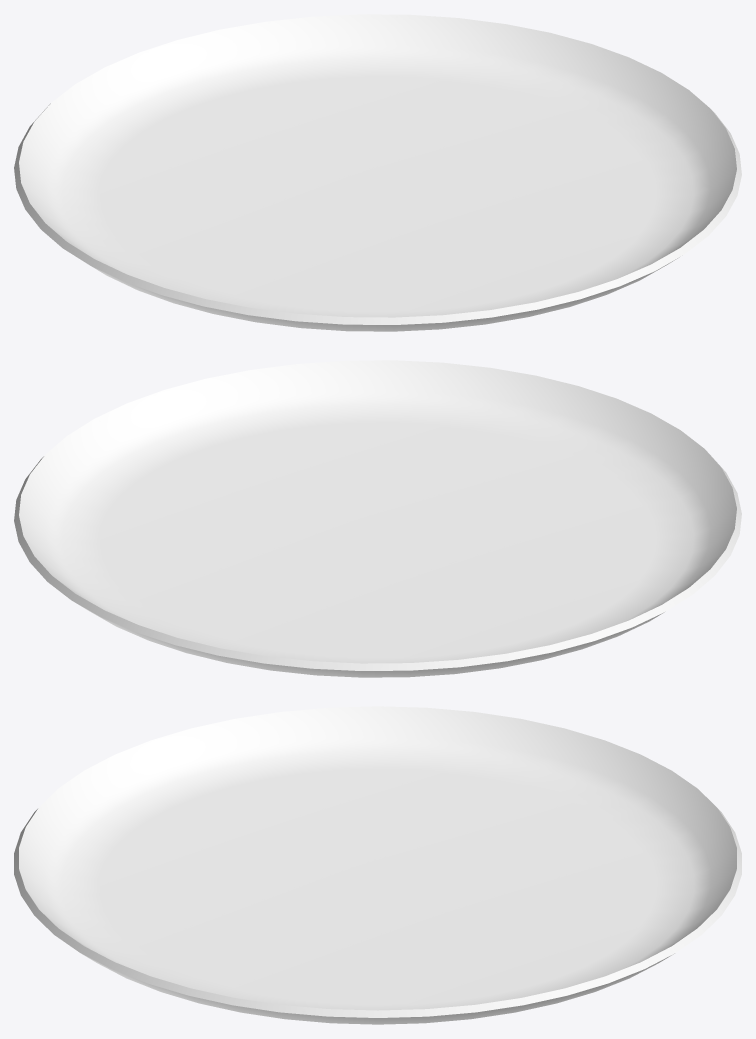
File: Plate.gltf
The picture shows the model from 3 angles, top to bottom: view 1: azimuth 30°, elevation 25°; view 2: azimuth 150°, elevation 25°; view 3: azimuth 270°, elevation 25°; orthographic projection.
Parts seen in each view (by area): view 1: Plate; view 2: Plate; view 3: Plate.
Part boxes in pixels (left/top/right/bottom): Plate: left=14, top=14, right=741, bottom=331; Plate: left=14, top=360, right=741, bottom=677; Plate: left=14, top=706, right=741, bottom=1024.
Bounding box in the file's own units: 9.17 × 0.4982 × 9.15.
Materials: 1 (1 with a texture image).
